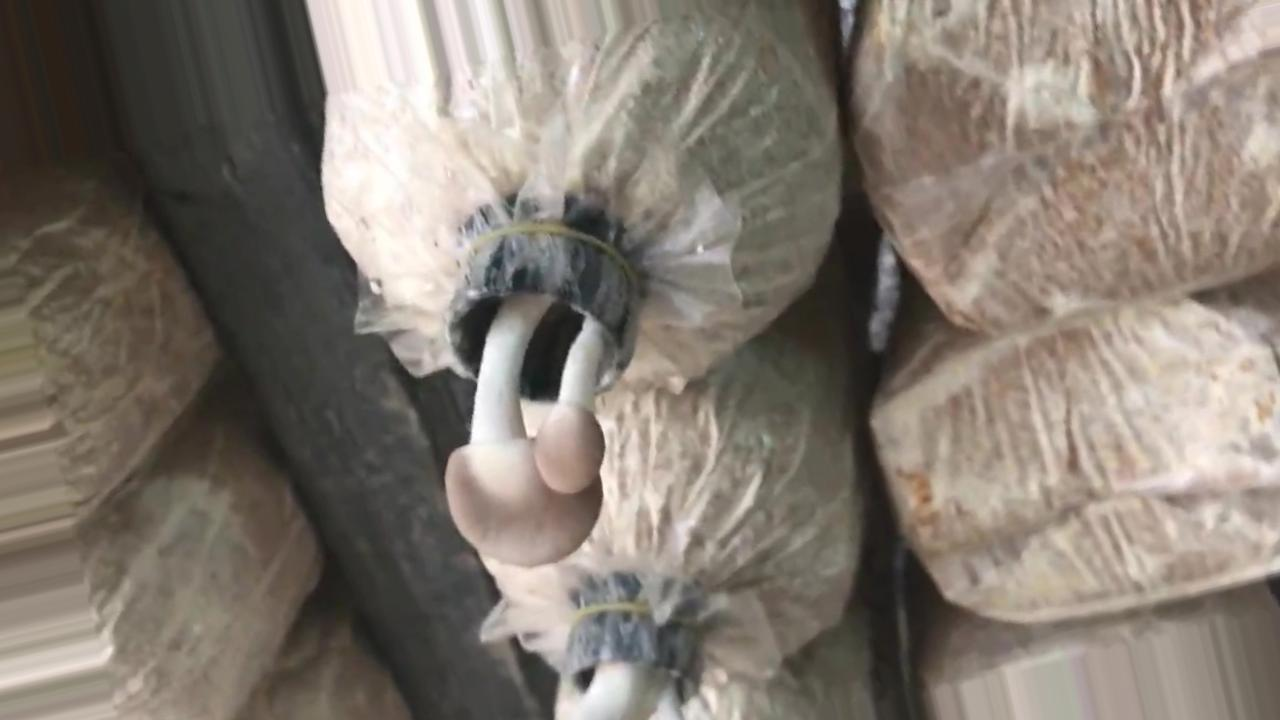nam: (442, 227, 641, 564)
